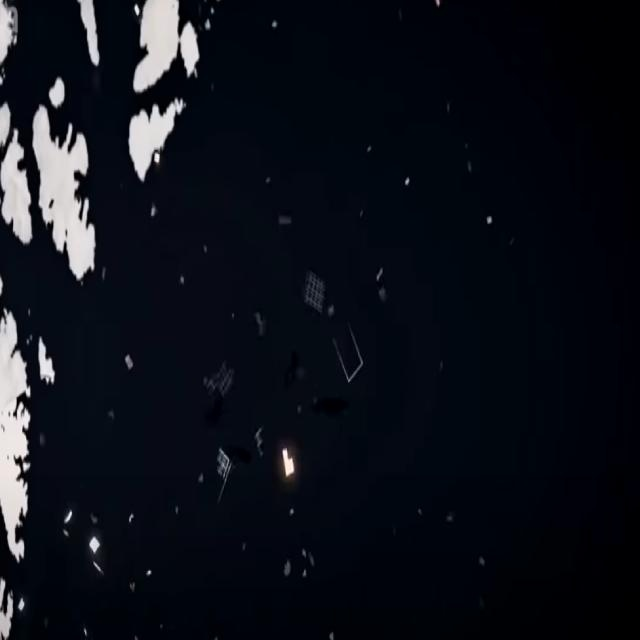large_debris: (331, 314, 366, 389), (200, 353, 236, 403), (304, 263, 330, 321), (211, 440, 235, 501), (254, 422, 268, 461), (123, 348, 133, 376)
